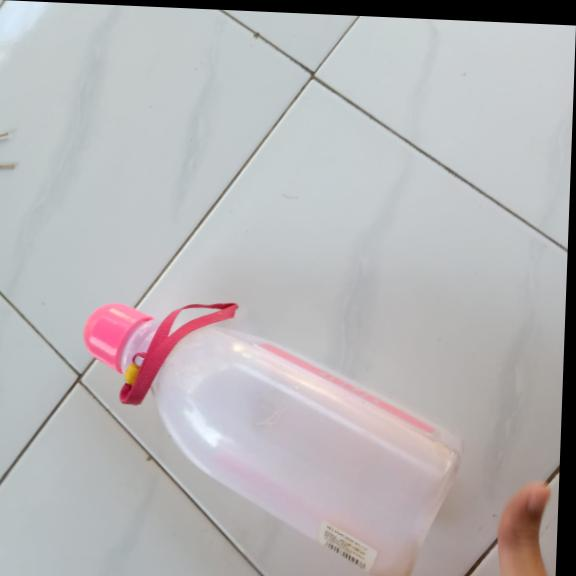Plastik: (74, 293, 472, 576)
